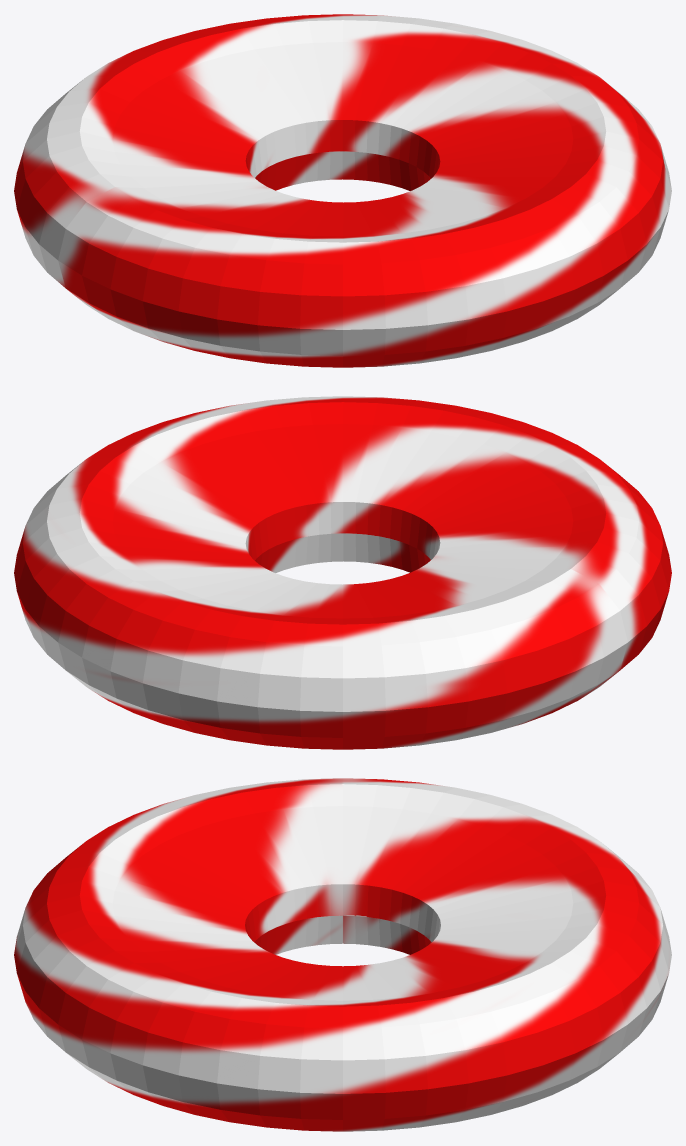
File: LifeJacketCandy.fbx
The picture shows the model from 3 angles, top to bottom: view 1: azimuth 30°, elevation 25°; view 2: azimuth 150°, elevation 25°; view 3: azimuth 270°, elevation 25°; orthographic projection.
Visible parts, largest first — view 1: Torus; view 2: Torus; view 3: Torus.
Part boxes in pixels (bbox=[...]): Torus: bbox=[14, 14, 671, 367]; Torus: bbox=[14, 396, 671, 749]; Torus: bbox=[14, 778, 671, 1131].
Size of the model in its own units: 250 by 50 by 250.
1 material, 1 textured.
